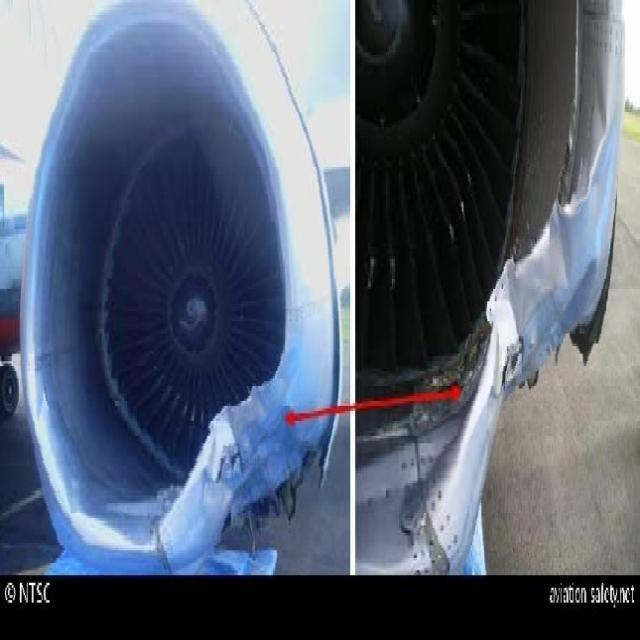dent: (588, 71, 611, 180), (496, 270, 528, 347), (551, 208, 577, 285)
